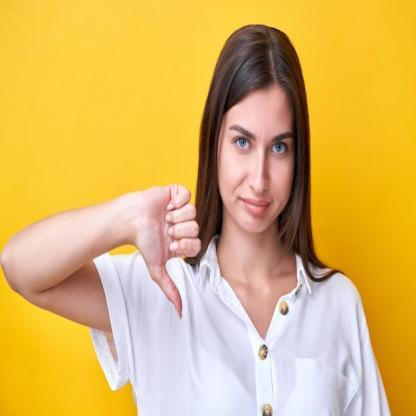thumb_down: (128, 176, 202, 324)
